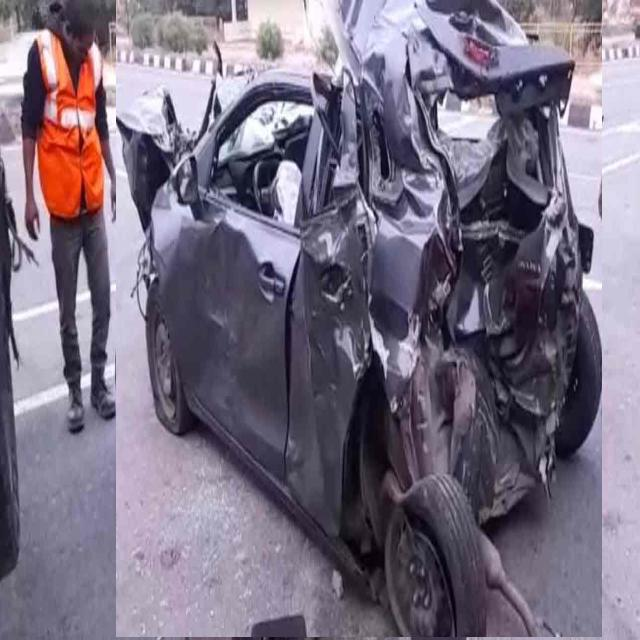accident: (116, 0, 602, 637)
